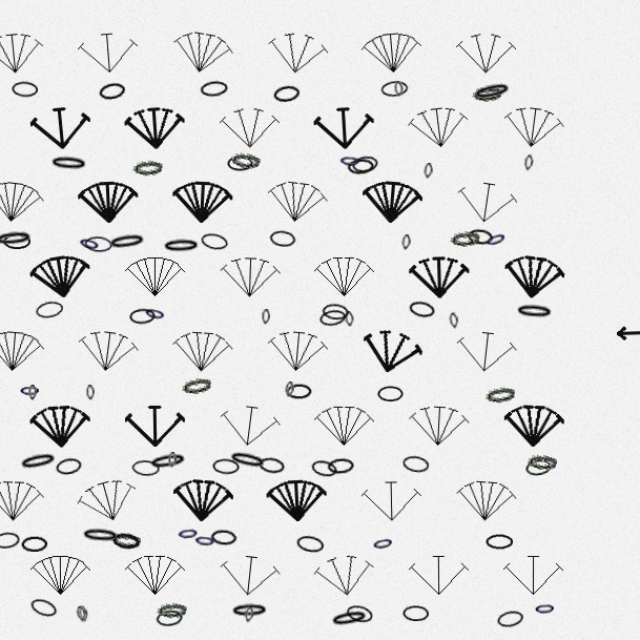chain: (470, 85, 509, 107), (38, 437, 77, 459), (237, 436, 276, 458), (334, 587, 373, 608), (123, 229, 161, 249), (162, 438, 200, 458), (15, 227, 53, 245), (48, 576, 77, 599), (68, 156, 105, 173), (511, 297, 548, 314), (98, 510, 135, 527), (193, 366, 223, 386), (175, 235, 212, 251), (240, 582, 277, 598), (482, 375, 512, 394), (211, 229, 239, 249), (349, 583, 377, 603), (316, 445, 343, 465), (493, 588, 520, 608), (54, 294, 82, 313), (302, 517, 330, 536), (470, 89, 499, 107), (449, 227, 478, 245), (114, 86, 141, 105), (324, 302, 351, 321), (409, 294, 436, 313), (73, 443, 100, 462), (403, 441, 430, 460), (520, 444, 547, 463), (481, 226, 505, 247), (147, 160, 176, 177), (240, 153, 269, 170), (170, 581, 199, 598), (280, 89, 307, 107), (355, 156, 382, 174), (266, 443, 293, 461), (127, 515, 154, 533), (94, 231, 118, 251), (277, 227, 303, 245), (14, 514, 40, 532), (169, 588, 195, 606), (211, 85, 238, 102), (383, 85, 410, 102), (101, 233, 128, 250), (146, 446, 173, 463), (127, 515, 155, 531), (351, 159, 377, 176), (465, 226, 491, 243), (327, 297, 353, 314), (332, 444, 358, 461), (221, 512, 247, 529), (157, 298, 180, 317), (523, 441, 551, 456), (223, 445, 249, 461), (374, 517, 397, 535), (32, 86, 57, 102), (144, 302, 169, 318), (24, 231, 50, 246), (483, 517, 509, 532), (237, 157, 262, 172), (293, 374, 318, 389), (380, 376, 405, 391), (41, 519, 66, 534), (404, 585, 429, 600), (189, 508, 211, 525), (205, 515, 227, 532), (343, 154, 365, 170), (529, 580, 550, 596), (39, 373, 60, 388), (95, 585, 106, 601), (93, 585, 104, 601), (519, 156, 529, 172), (448, 306, 458, 322), (253, 586, 263, 602), (396, 86, 405, 101), (424, 164, 433, 179), (403, 232, 412, 247), (349, 305, 358, 320), (292, 372, 301, 387), (270, 303, 278, 318), (48, 375, 56, 390), (103, 375, 111, 390), (181, 439, 189, 454)
fan: (91, 458, 157, 514), (361, 317, 426, 371), (182, 34, 245, 85), (48, 247, 110, 298), (273, 35, 335, 85), (453, 177, 515, 227), (498, 248, 560, 298), (318, 532, 380, 582), (408, 106, 469, 155), (498, 106, 559, 155), (3, 177, 64, 226), (273, 177, 334, 226), (93, 319, 154, 368), (228, 390, 289, 439), (453, 320, 514, 368), (228, 533, 289, 581), (4, 36, 64, 84), (49, 107, 109, 155), (94, 36, 154, 83), (364, 36, 424, 83), (364, 178, 424, 225), (4, 320, 64, 367), (274, 320, 334, 367), (184, 462, 244, 509), (139, 108, 198, 154), (319, 108, 378, 154), (184, 321, 243, 367), (49, 392, 108, 438), (454, 463, 513, 509), (184, 179, 243, 224), (409, 392, 468, 437), (274, 463, 333, 508), (95, 179, 153, 224), (500, 392, 558, 437), (230, 251, 288, 295), (410, 251, 468, 295), (5, 464, 63, 508), (455, 38, 512, 82), (230, 109, 287, 153), (365, 464, 422, 508), (140, 251, 197, 294), (320, 251, 377, 294), (140, 393, 197, 436), (320, 393, 377, 436), (50, 535, 107, 578), (140, 535, 197, 578), (410, 535, 467, 578), (500, 535, 557, 578)
noise: (605, 319, 639, 333), (0, 485, 19, 507)
